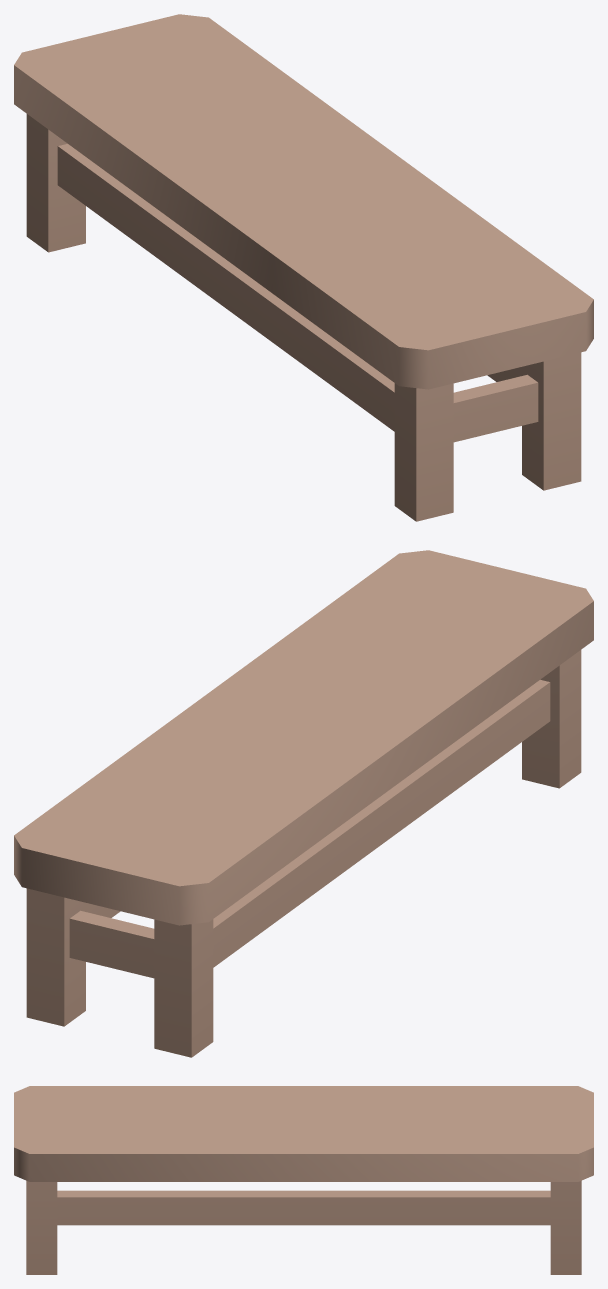
Rendered from stall-bench.glb.
3 renders of one model, top to bottom at view 1: azimuth 30°, elevation 25°; view 2: azimuth 150°, elevation 25°; view 3: azimuth 270°, elevation 25°, orthographic. The views are drawn at different scales.
Visible parts, largest first — view 1: stall-bench; view 2: stall-bench; view 3: stall-bench.
Boxes of the visible parts, <box> form: stall-bench: <box>14,14,593,521</box>; stall-bench: <box>14,550,593,1057</box>; stall-bench: <box>14,1086,593,1274</box>.
Bounding box in the file's own units: 0.26 × 0.2255 × 0.94.
